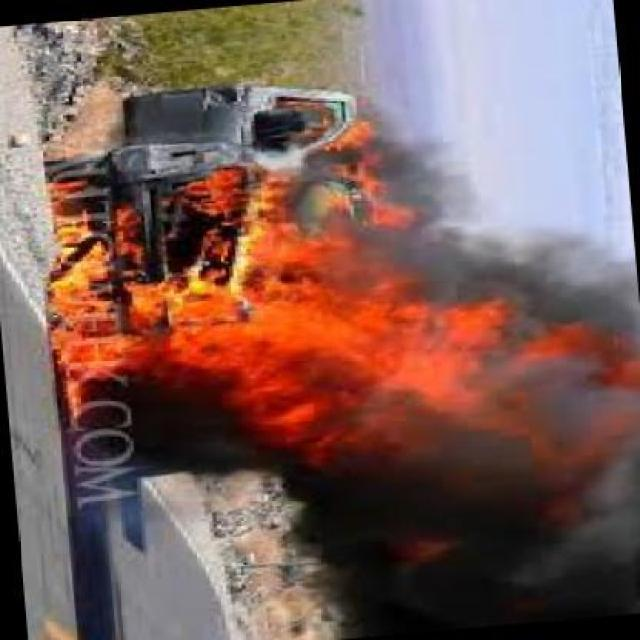Fire: (39, 156, 408, 400), (406, 298, 640, 450), (240, 396, 382, 462)
Smoke: (318, 462, 640, 640), (413, 142, 636, 296), (100, 393, 240, 489)
